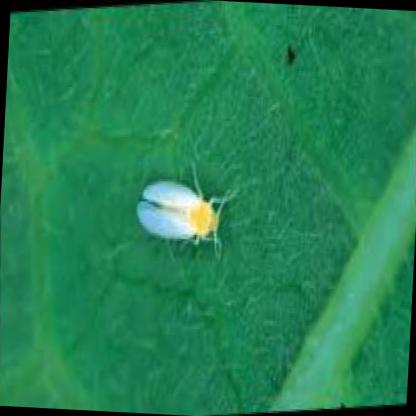whitefly: (137, 180, 221, 237)
